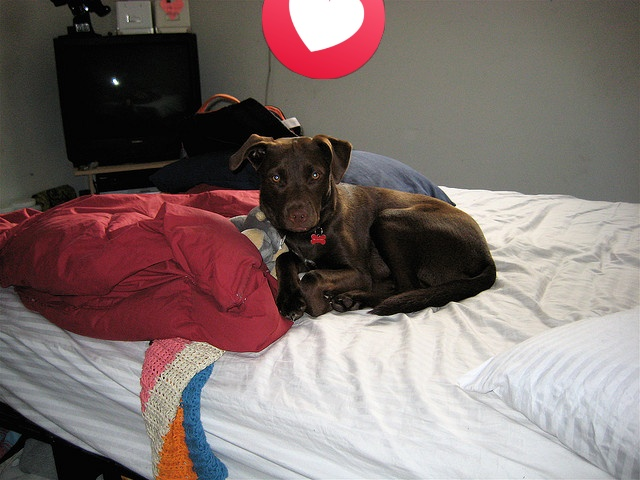love: (262, 0, 385, 79)
